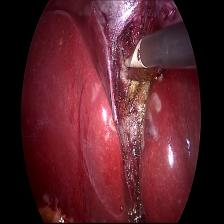Hook: (118, 32, 148, 80)
